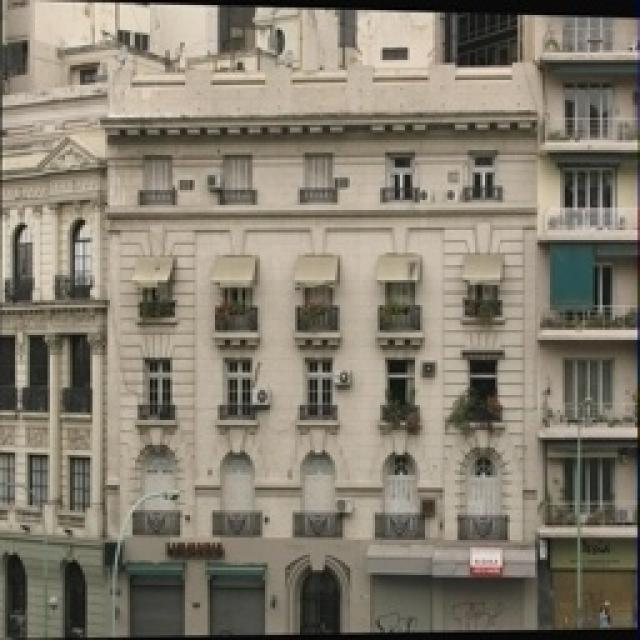building: (108, 50, 550, 640)
